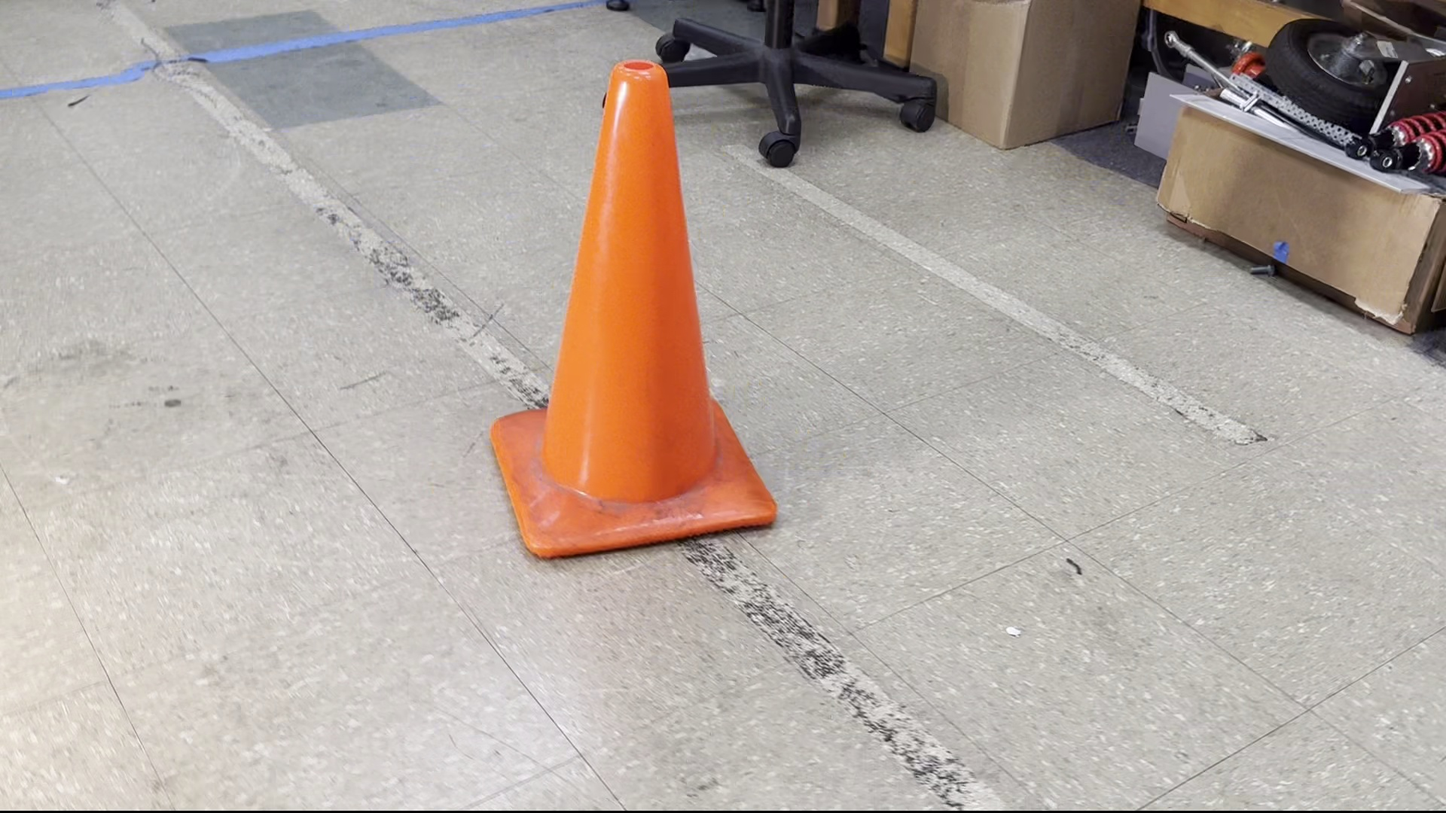traffic_cone: (489, 58, 778, 560)
